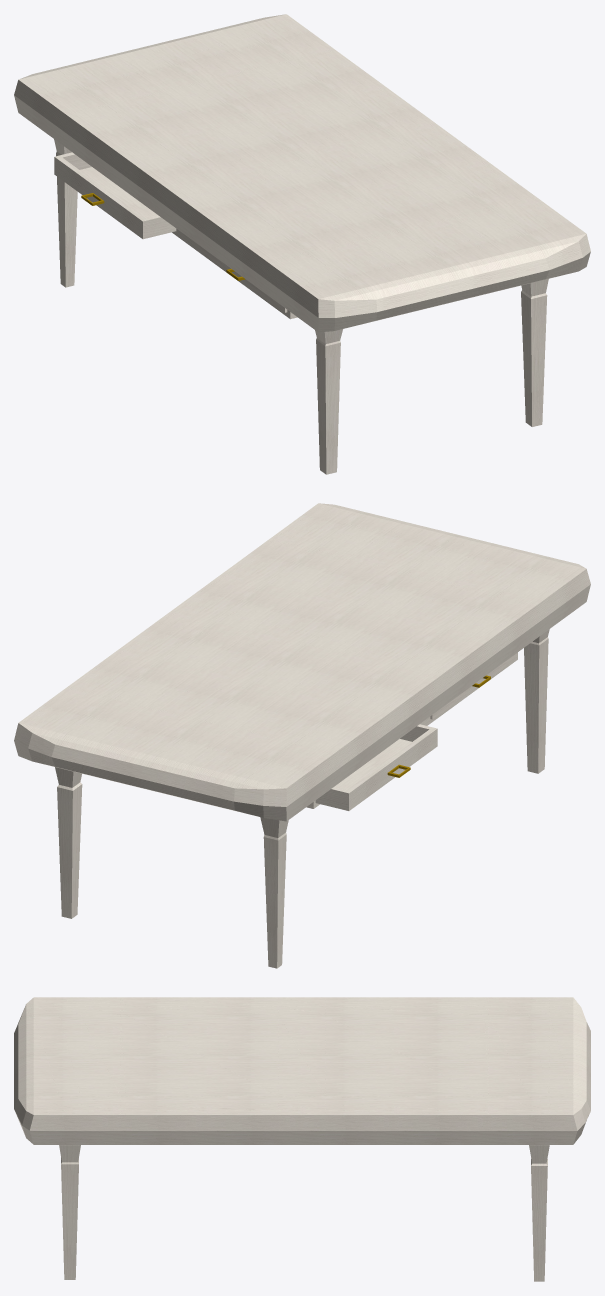
File: mesa4.fbx
3 views of the same model, one above another, from view 1: azimuth 30°, elevation 25°; view 2: azimuth 150°, elevation 25°; view 3: azimuth 270°, elevation 25° (orthographic). The views are drawn at different scales.
Parts seen in each view (by area): view 1: table4:Mesh; view 2: table4:Mesh; view 3: table4:Mesh.
Boxes of the visible parts, box(x1,y1,x2,y2) form: table4:Mesh: box(14, 14, 590, 474); table4:Mesh: box(14, 503, 590, 968); table4:Mesh: box(14, 997, 590, 1281).
Bounding box in the file's own units: 7.06 × 4.54 × 13.29.
2 materials, 1 textured.
